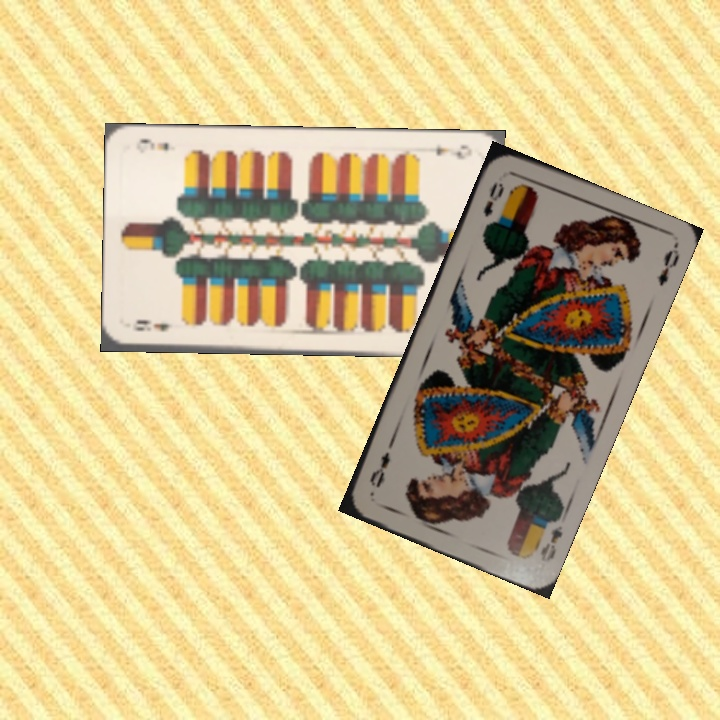E9: (431, 141, 474, 162), (129, 316, 173, 334)
EO: (536, 521, 565, 565), (479, 178, 507, 220)
